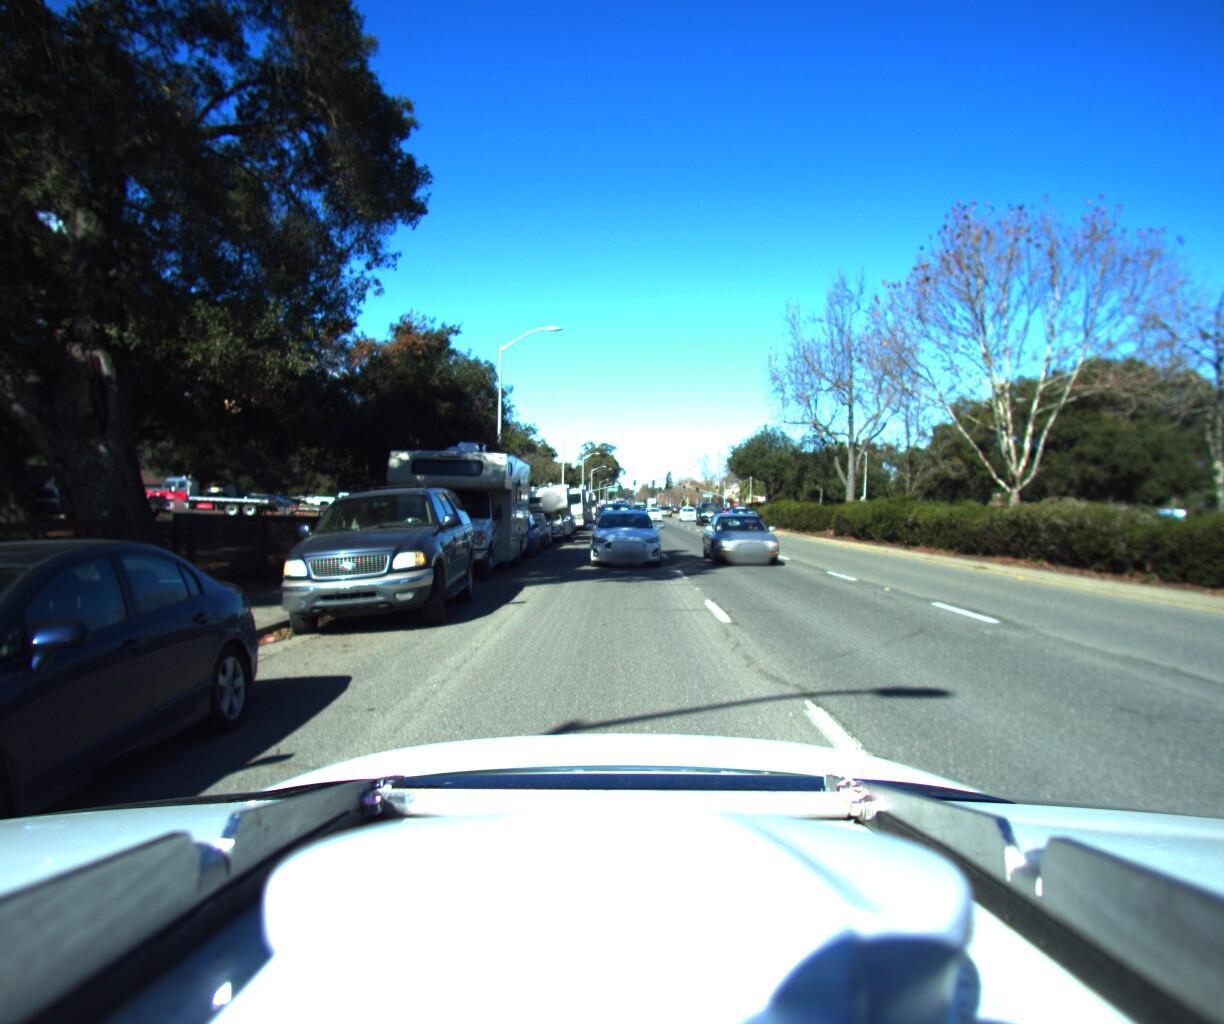car: (0, 515, 304, 1024), (236, 463, 493, 647), (703, 501, 802, 566), (592, 500, 667, 564), (476, 501, 545, 552), (493, 503, 557, 546), (696, 499, 727, 519), (679, 497, 701, 515), (642, 495, 661, 513)
other_vehicle: (368, 421, 533, 583), (508, 472, 574, 539), (539, 474, 589, 525), (552, 478, 595, 520), (569, 484, 598, 514)
